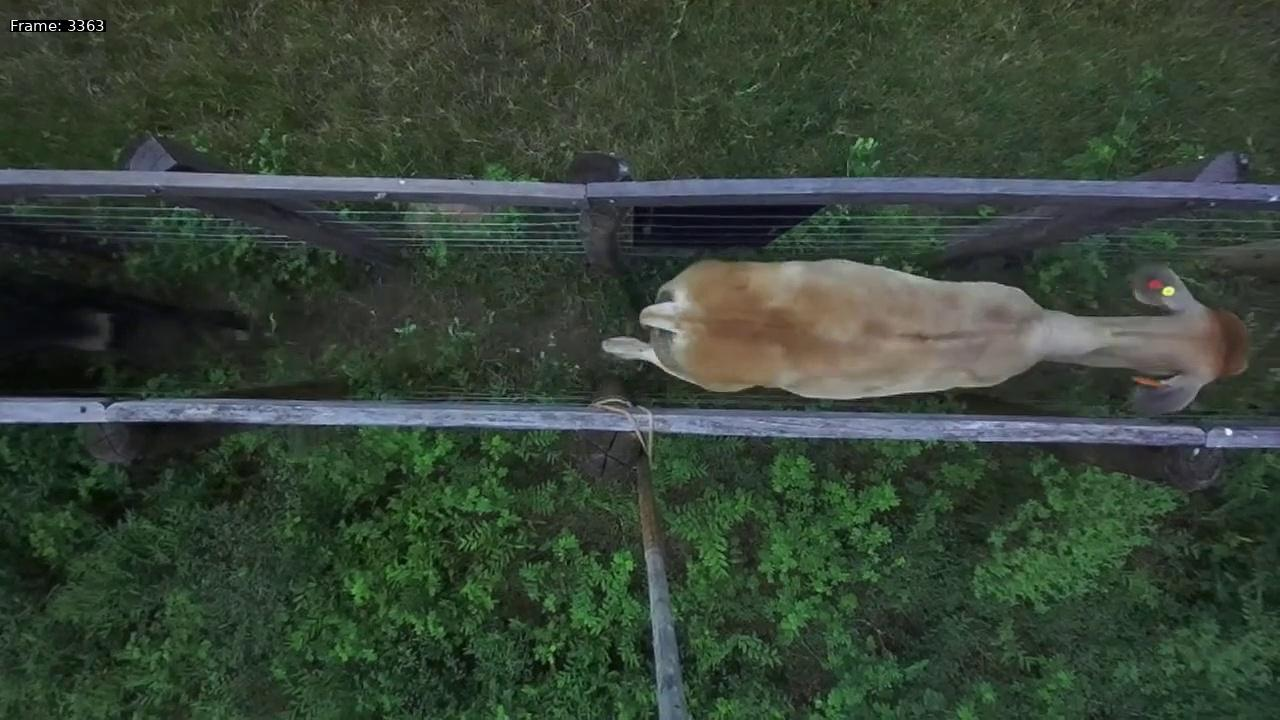cattle: (594, 233, 1264, 419)
